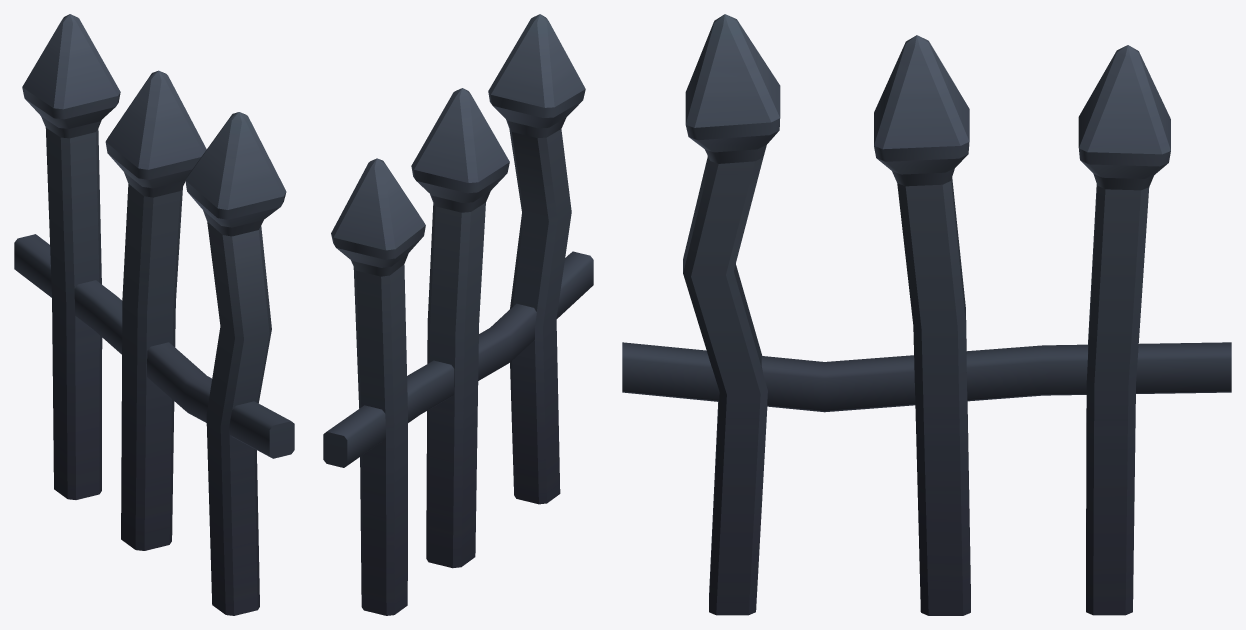
File: Fence_5_2.glb
3 renders of one model, left to right at view 1: azimuth 30°, elevation 25°; view 2: azimuth 150°, elevation 25°; view 3: azimuth 270°, elevation 25°, orthographic. The views are drawn at different scales.
Parts seen in each view (by area): view 1: Fence_5_2; view 2: Fence_5_2; view 3: Fence_5_2.
Part boxes in pixels (x1,y1,x2,y2): Fence_5_2: (14,14,294,615); Fence_5_2: (323,14,593,615); Fence_5_2: (622,14,1231,615).
Size of the model in its own units: 0.1533 by 1.04 by 0.9745.
Materials: 1 (1 with a texture image).
